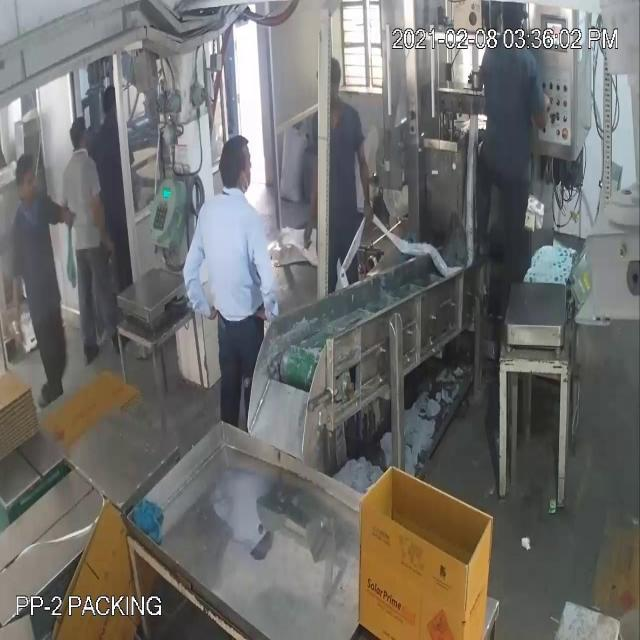No_Gloves: (17, 48, 365, 304)
